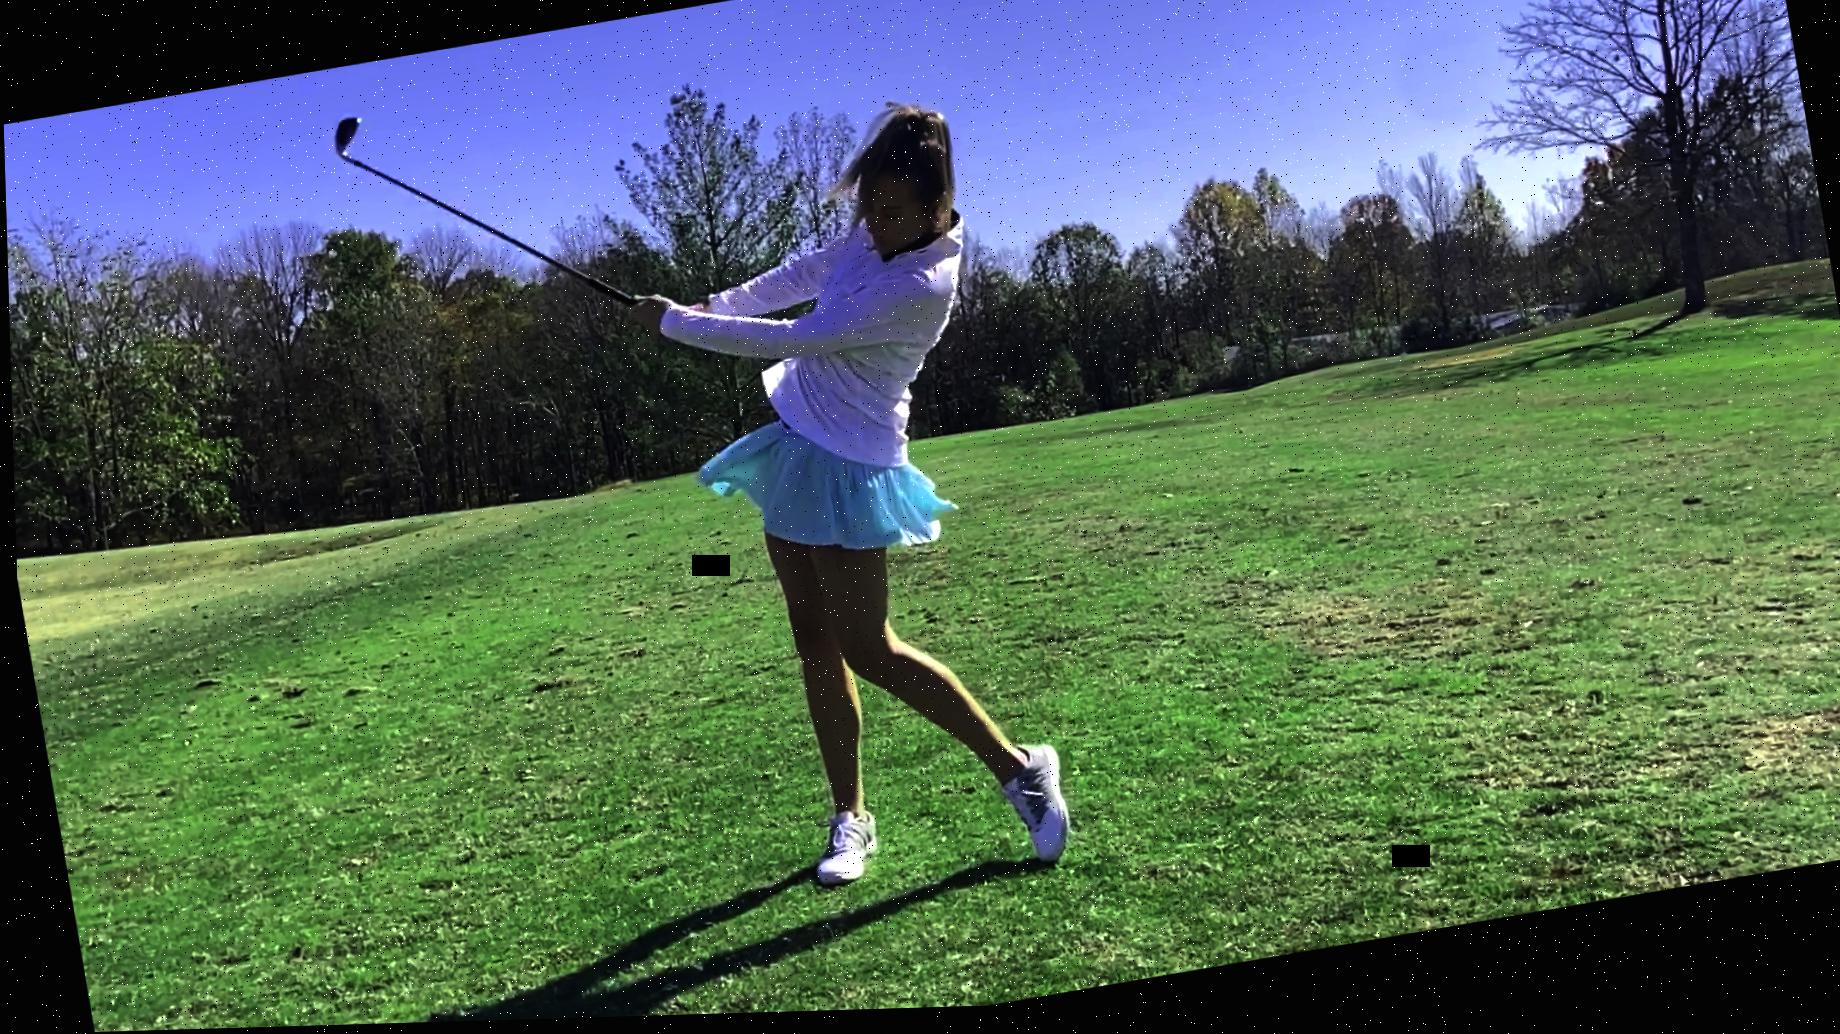ClubHead: (320, 113, 372, 176)
